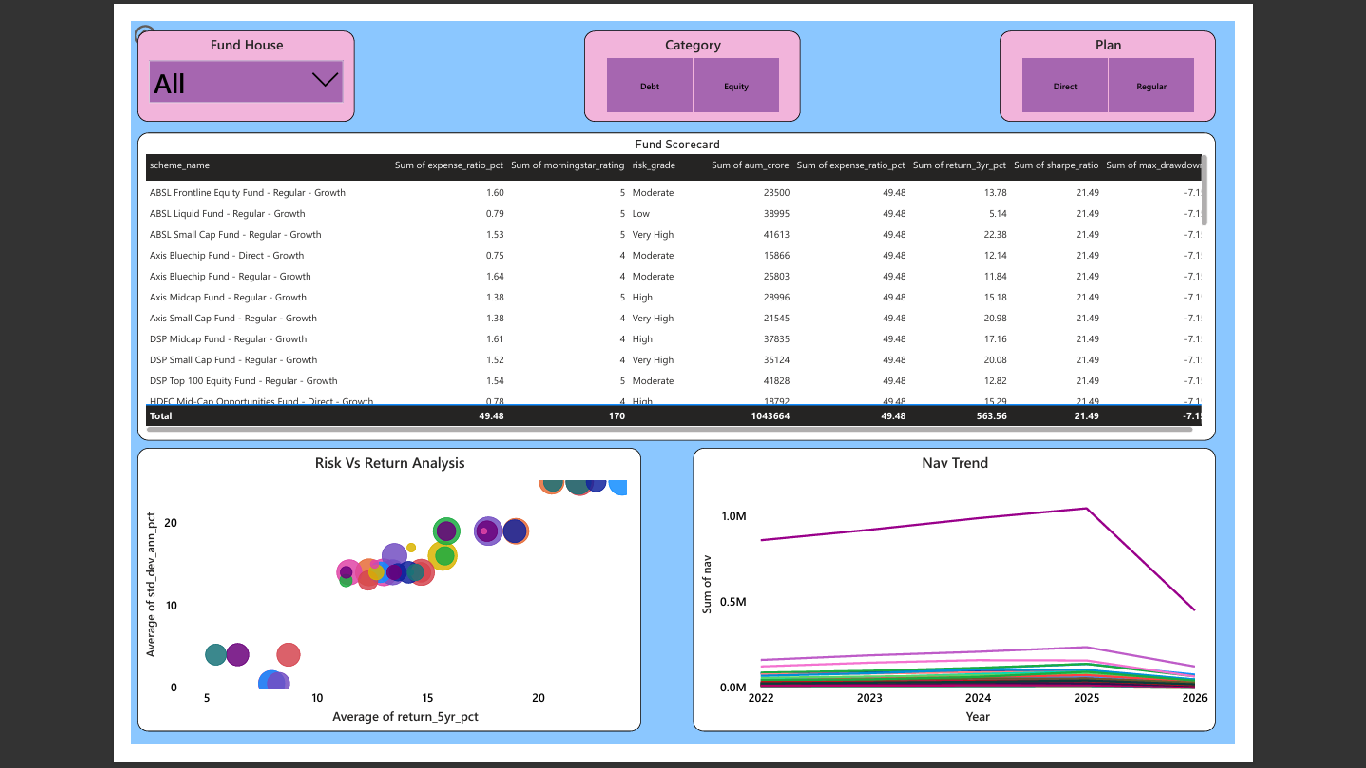

The dashboard page shown, as its layout file describes it:
{"tool":"powerbi","page":{"name":"Fund Performance","canvas":[1530,1000],"ordinal":1},"visuals":[{"type":"scatterChart","title":"Risk Vs Return Analysis","fields":{"X":["Avg(07_performance_clean.return_5yr_pct)"],"Y":["Avg(07_performance_clean.std_dev_ann_pct)"],"Size":["Sum(07_performance_clean.aum_crore)"],"Series":["01_fund_master.fund_house"],"Category":["07_performance_clean.scheme_name"]},"box":[9,591,698.5,392.5],"z":0},{"type":"tableEx","title":"Fund Scorecard","fields":{"Values":["07_performance_clean.scheme_name","Sum(07_performance_clean.expense_ratio_pct)","Sum(07_performance_clean.morningstar_rating)","07_performance_clean.risk_grade","Sum(07_performance_clean.aum_crore)","Sum(fund_scorecard.expense_ratio_pct)","Sum(07_performance_clean.return_3yr_pct)","Sum(fund_scorecard.sharpe_ratio)","Sum(fund_scorecard.max_drawdown)"]},"box":[9,153.7,1495.5,426.9],"z":1000},{"type":"actionButton","box":[0,0,100,40],"z":2000},{"type":"lineChart","title":"Nav Trend","fields":{"Category":["02_nav_history_clean.date.Variation.Date Hierarchy.Year","02_nav_history_clean.date.Variation.Date Hierarchy.Quarter","02_nav_history_clean.date.Variation.Date Hierarchy.Month","02_nav_history_clean.date.Variation.Date Hierarchy.Day"],"Y":["Sum(02_nav_history_clean.nav)"],"Series":["01_fund_master.scheme_name"]},"box":[779.1,591,725.4,392.5],"z":3000},{"type":"slicer","title":"Fund House","fields":{"Values":["01_fund_master.fund_house"]},"box":[9.2,13.1,301.1,125.7],"z":4000},{"type":"slicer","title":"Category","fields":{"Values":["01_fund_master.category"]},"box":[628.4,13.4,300,125.4],"z":5000},{"type":"slicer","title":"Plan","fields":{"Values":["01_fund_master.plan"]},"box":[1204.5,13.4,300,125.4],"z":6000}]}

Visuals, with their boxes on the page's 1530x1000 design canvas (x1, y1, x2, y2). These are canvas units, not pixel positions in the 1366x768 screenshot, which may show the page scaled, cropped or inside an application window:
"Risk Vs Return Analysis" scatterChart: l=9, t=591, r=708, b=984
"Fund Scorecard" tableEx: l=9, t=154, r=1504, b=581
actionButton: l=0, t=0, r=100, b=40
"Nav Trend" lineChart: l=779, t=591, r=1504, b=984
"Fund House" slicer: l=9, t=13, r=310, b=139
"Category" slicer: l=628, t=13, r=928, b=139
"Plan" slicer: l=1204, t=13, r=1504, b=139
